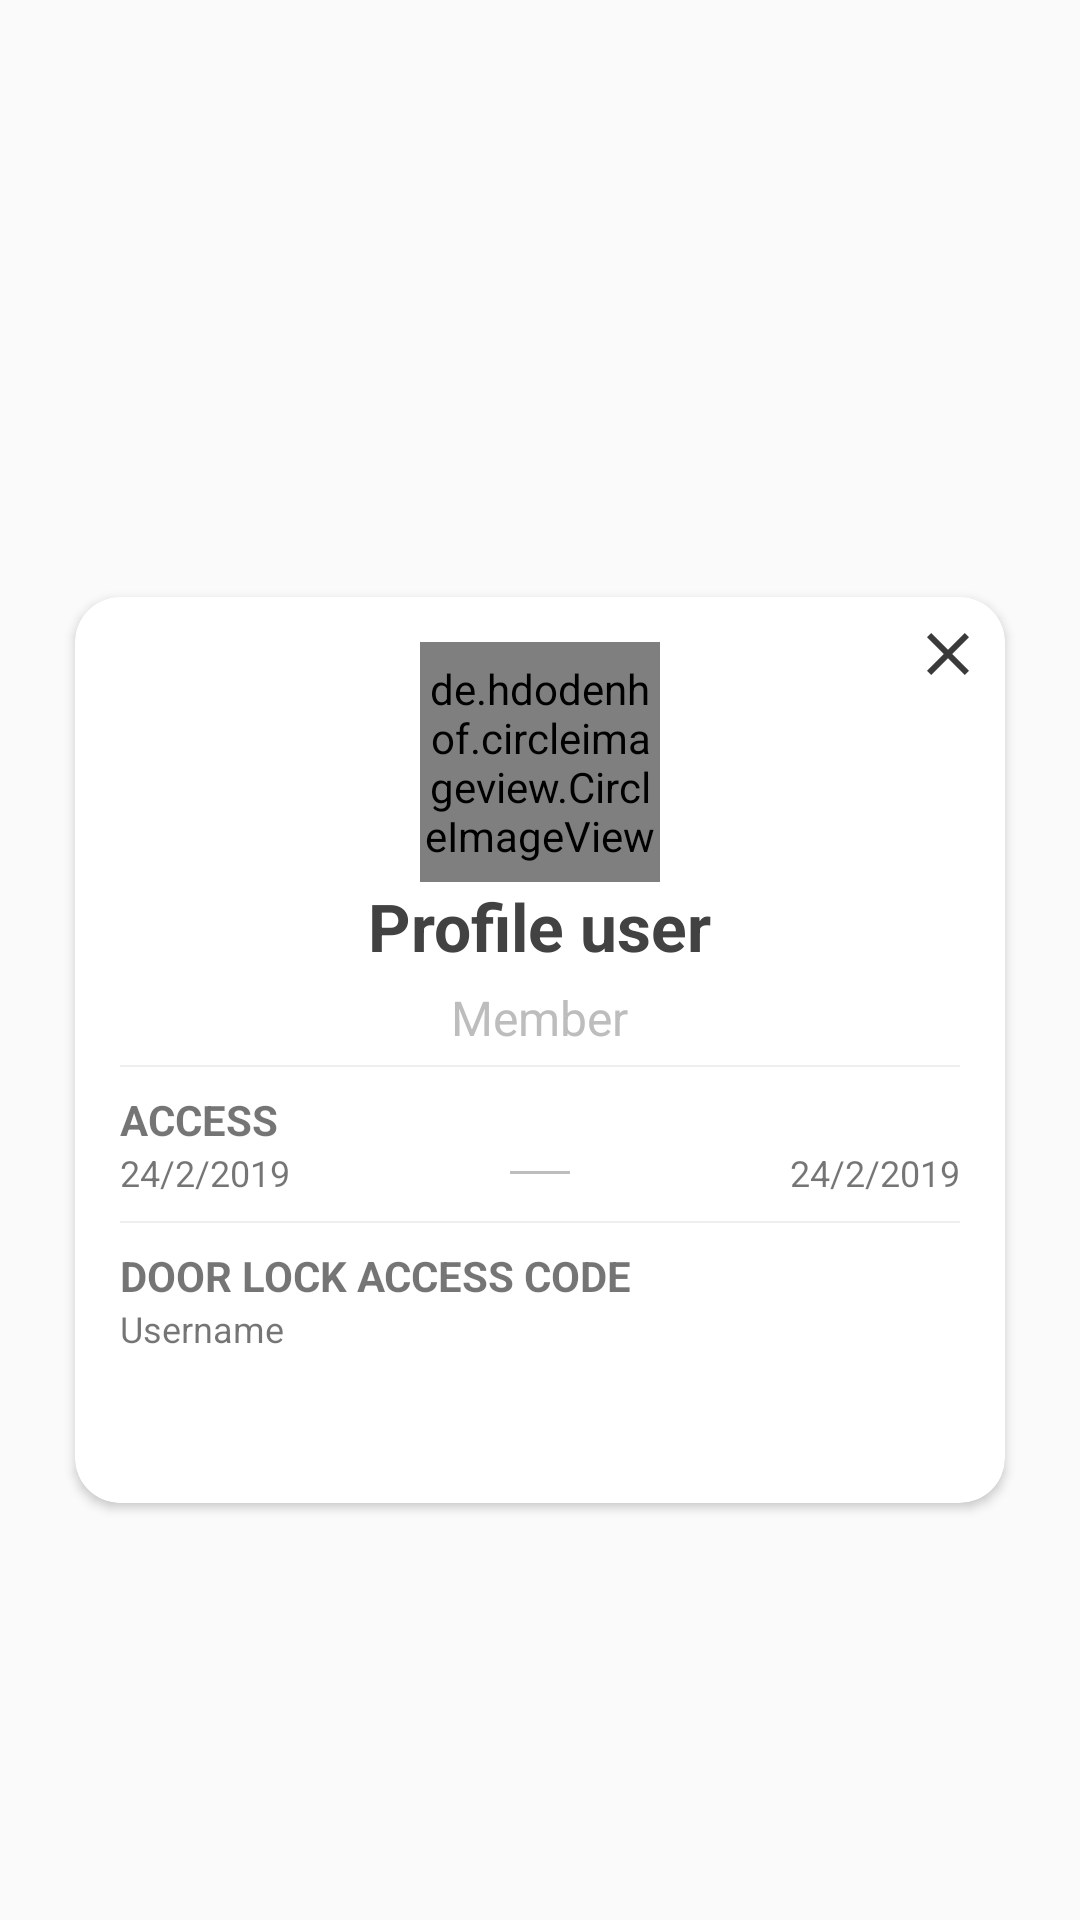

Icons on this 1080 x 1920 Android screen, each with the point to tap as [x,y]:
close: [948,654]
